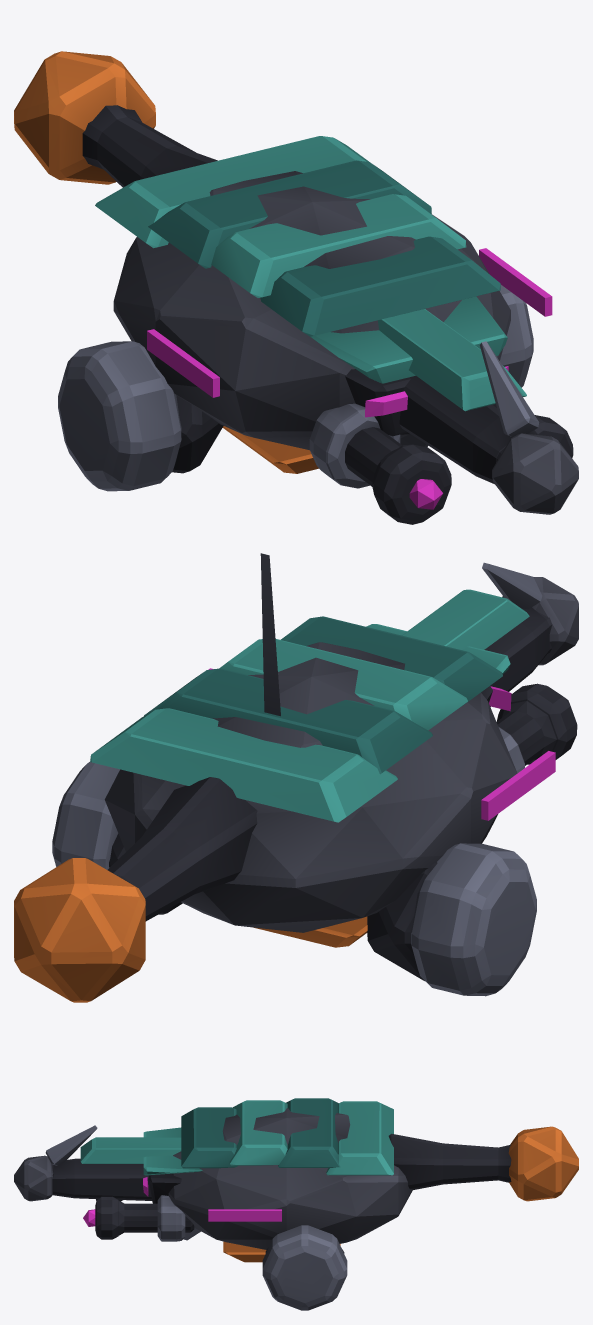
The model's file is strider.glb.
3 renders of one model, top to bottom at view 1: azimuth 30°, elevation 25°; view 2: azimuth 150°, elevation 25°; view 3: azimuth 270°, elevation 25°, orthographic. The views are drawn at different scales.
Visible parts, largest first — view 1: strider_torso_body, strider_thigh_body, strider_torso_glow; view 2: strider_torso_body, strider_thigh_body, strider_torso_glow; view 3: strider_torso_body, strider_thigh_body, strider_torso_glow.
Part boxes in pixels (x1,y1,x2,y2): strider_torso_body: (14, 51, 573, 524); strider_thigh_body: (378, 309, 578, 514); strider_torso_glow: (147, 248, 552, 509); strider_torso_body: (14, 553, 577, 1002); strider_thigh_body: (402, 562, 578, 706); strider_torso_glow: (208, 668, 555, 820); strider_torso_body: (95, 1098, 578, 1310); strider_thigh_body: (14, 1125, 181, 1201); strider_torso_glow: (83, 1177, 281, 1226).
Size of the model in its own units: 5.9 by 5.42 by 12.27.
